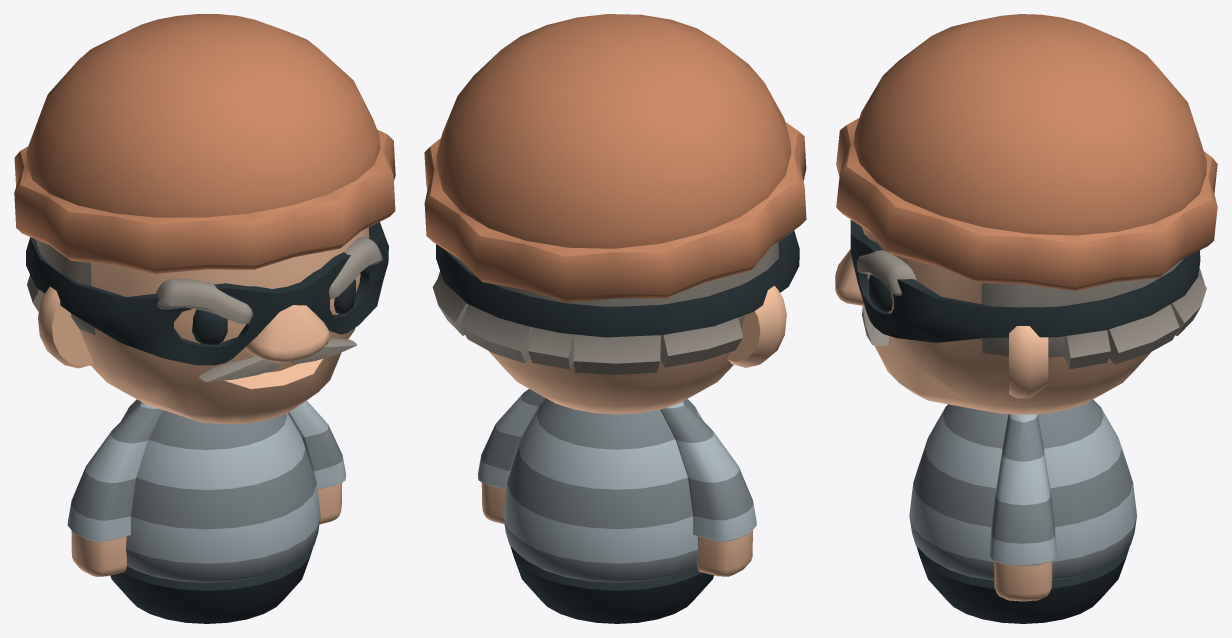
Rendered from character_thief.dae.
3 renders of one model, left to right at view 1: azimuth 30°, elevation 25°; view 2: azimuth 150°, elevation 25°; view 3: azimuth 270°, elevation 25°, orthographic.
Parts seen in each view (by area): view 1: character_thief_hat, character_thief_body, character_thief_head, character_thief_mask, character_thief_armRight, character_thief_armLeft; view 2: character_thief_hat, character_thief_body, character_thief_head, character_thief_mask, character_thief_armRight, character_thief_armLeft; view 3: character_thief_hat, character_thief_body, character_thief_head, character_thief_mask, character_thief_armLeft.
Part boxes in pixels (x1,y1,x2,y2): character_thief_hat: (14,14,395,273); character_thief_body: (110,399,320,623); character_thief_head: (27,227,382,423); character_thief_mask: (26,222,388,365); character_thief_armRight: (67,401,163,576); character_thief_armLeft: (288,400,345,524); character_thief_hat: (424,14,806,302); character_thief_body: (503,399,713,623); character_thief_head: (432,242,786,414); character_thief_mask: (436,230,799,337); character_thief_armRight: (660,401,756,576); character_thief_armLeft: (477,389,546,524); character_thief_hat: (836,14,1217,291); character_thief_body: (909,399,1136,623); character_thief_head: (835,227,1206,414); character_thief_mask: (850,220,1200,342); character_thief_armLeft: (989,414,1056,601).
Size of the model in its own units: 1.18 by 1.18 by 1.88.
